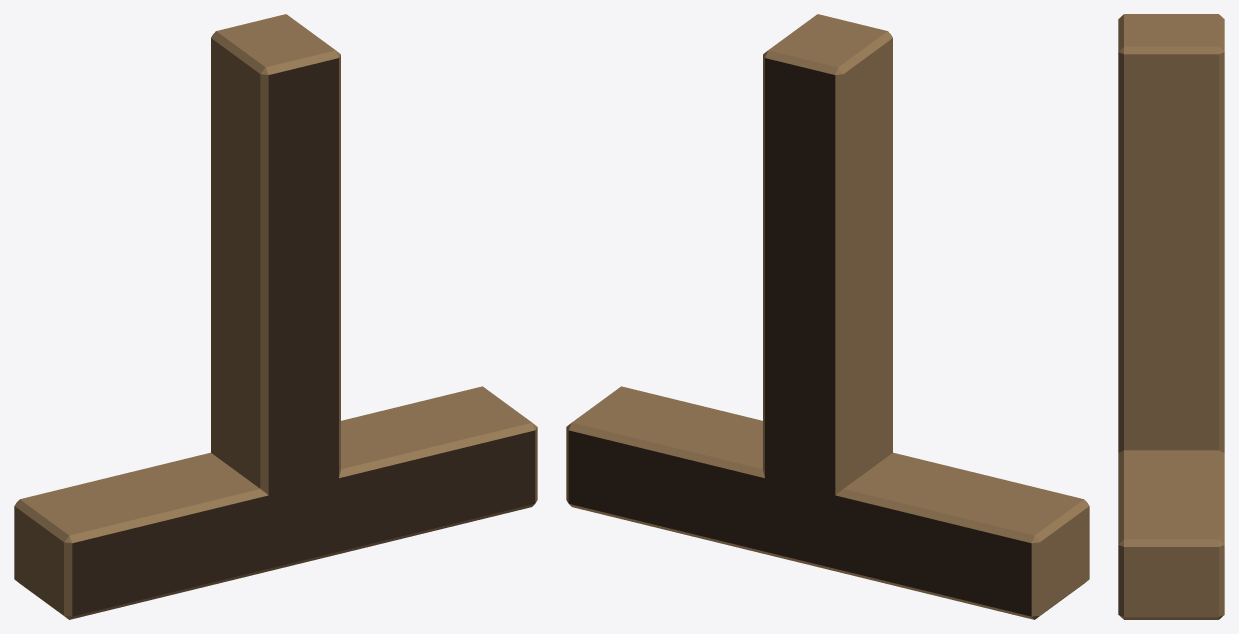
3 views of the same model, side by side, from view 1: azimuth 30°, elevation 25°; view 2: azimuth 150°, elevation 25°; view 3: azimuth 270°, elevation 25° (orthographic). The views are drawn at different scales.
Parts seen in each view (by area): view 1: Glyph; view 2: Glyph; view 3: Glyph.
Part boxes in pixels (x1,y1,x2,y2): Glyph: [14, 14, 537, 619]; Glyph: [566, 14, 1089, 619]; Glyph: [1118, 14, 1224, 619].
Bounding box in the file's own units: 0.54 × 0.55 × 0.11.
